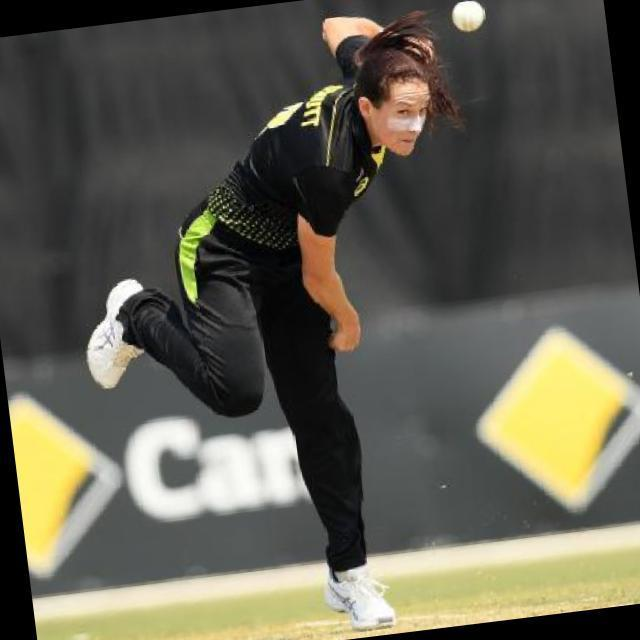-: (445, 0, 494, 45)
